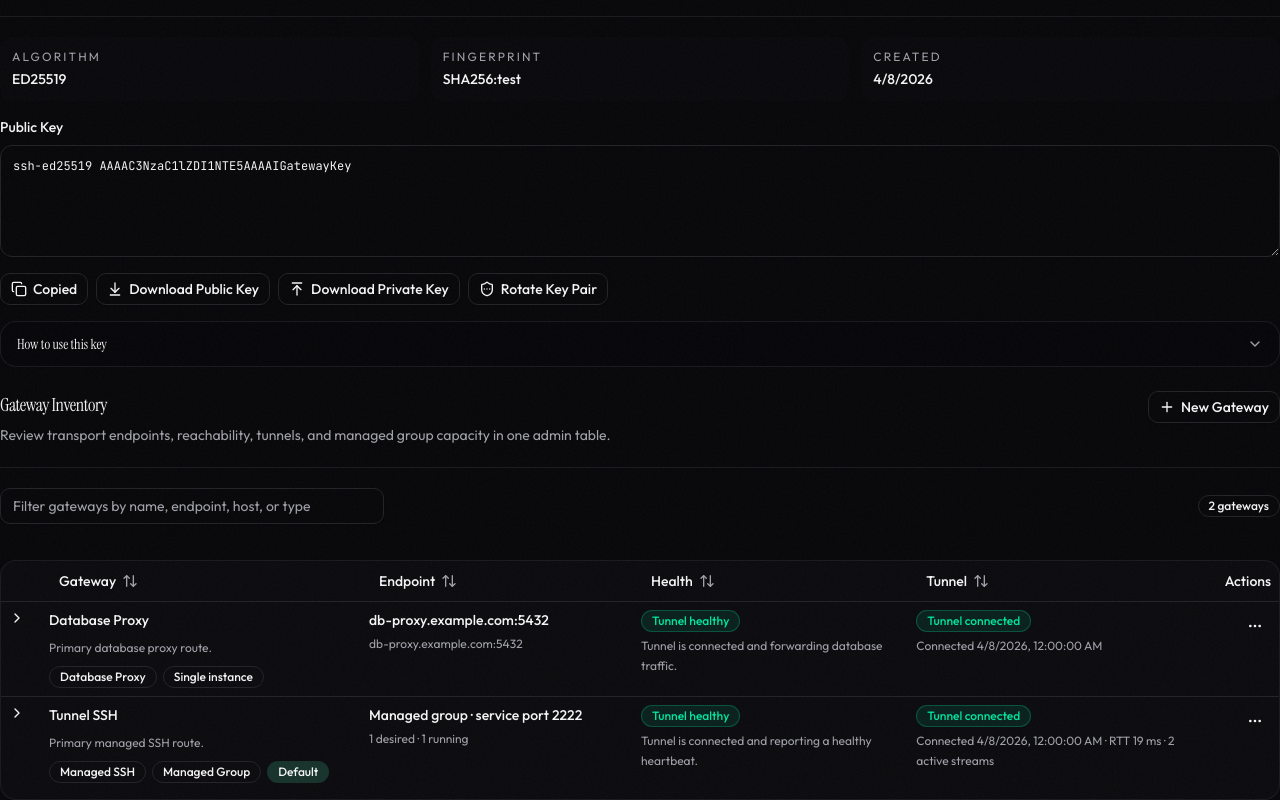
GatewaySection › renders the shadcn gateway inventory and key management panels
(page scrolled)
Expected: the heading "Gateway Inventory" is shown, [0,393,107,417]
Expected: the table is shown, [1,561,1279,790]
Click the button named "Show details for Tunnel SSH" at (17, 712), box [9,704,25,720]
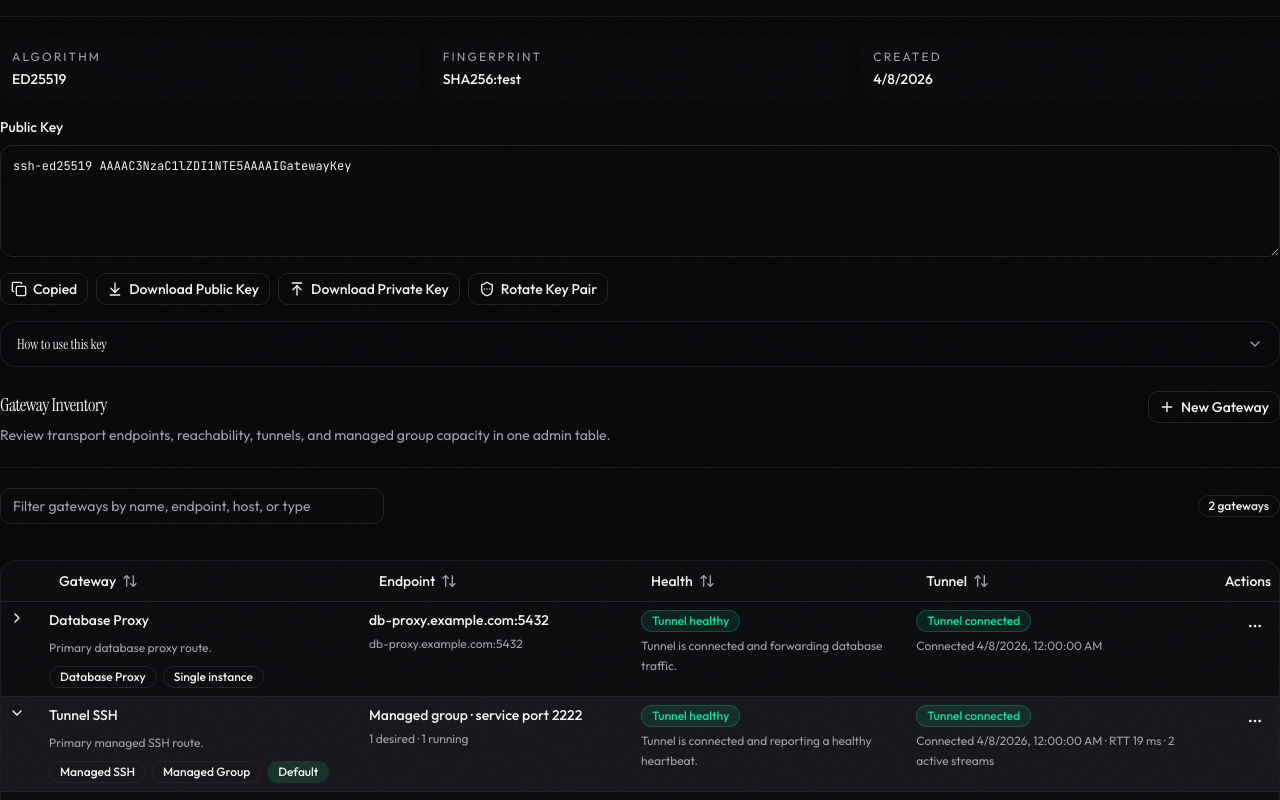
Press the mouse on the button named "Open actions for Tunnel SSH" at (1255, 720), box [1239,704,1271,736]
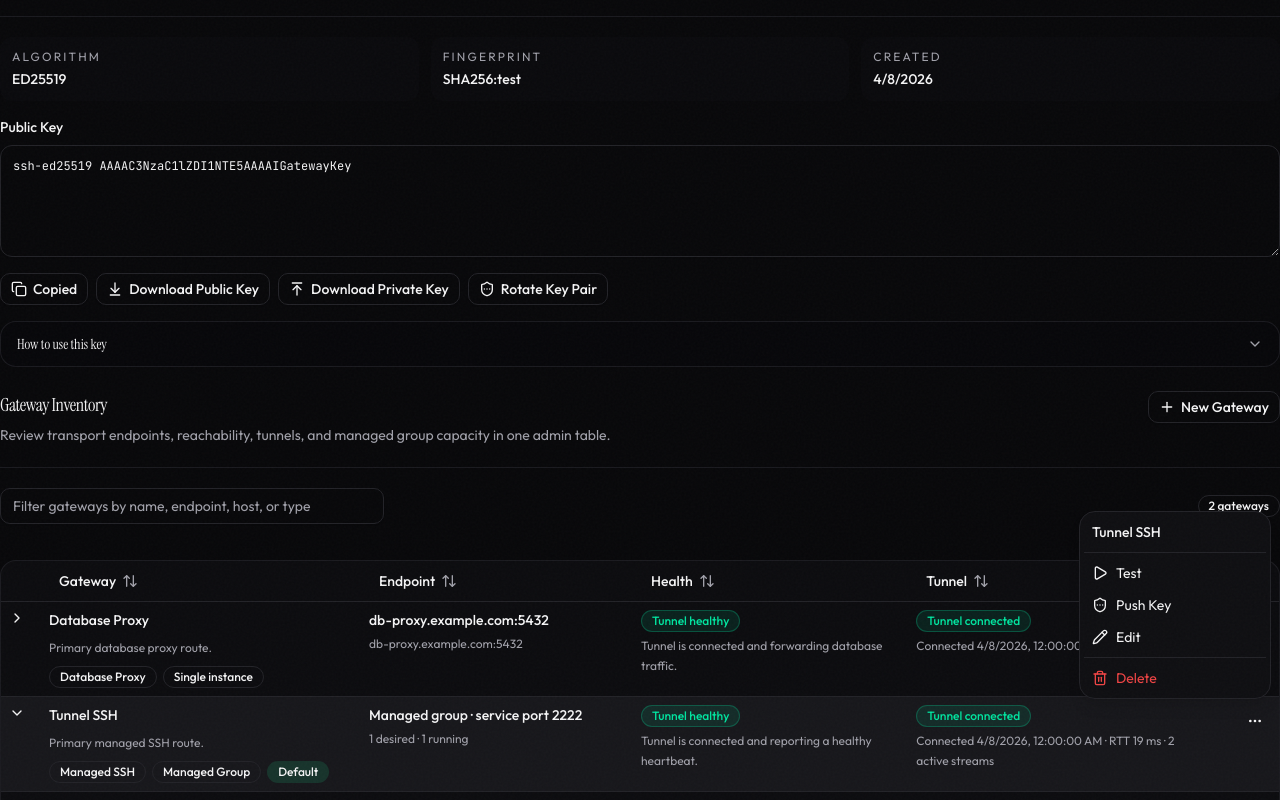
Expected: the menu item "Push Key" is shown, [1092,596,1172,614]
